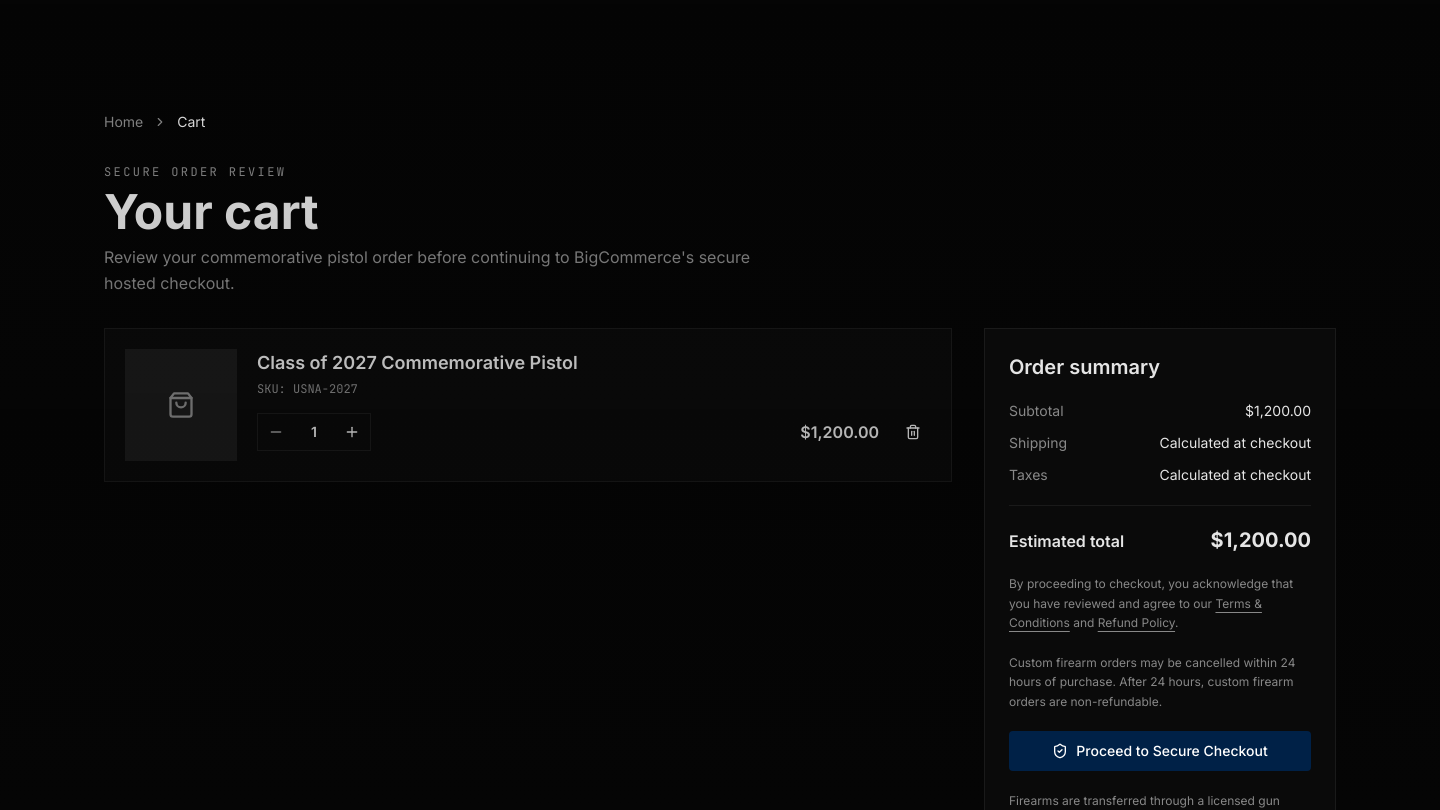
Scenario: Cart page — checkout guardrails & resilience › TEST: a failed checkout request shows an error, leaves the cart intact, and a retry succeeds
This screenshot has width=1440, height=810.
Later steps or results of the test are not shown.
Click the button "Proceed to Secure Checkout": click(1160, 751) [1009,731,1311,771]
(page scrolled)
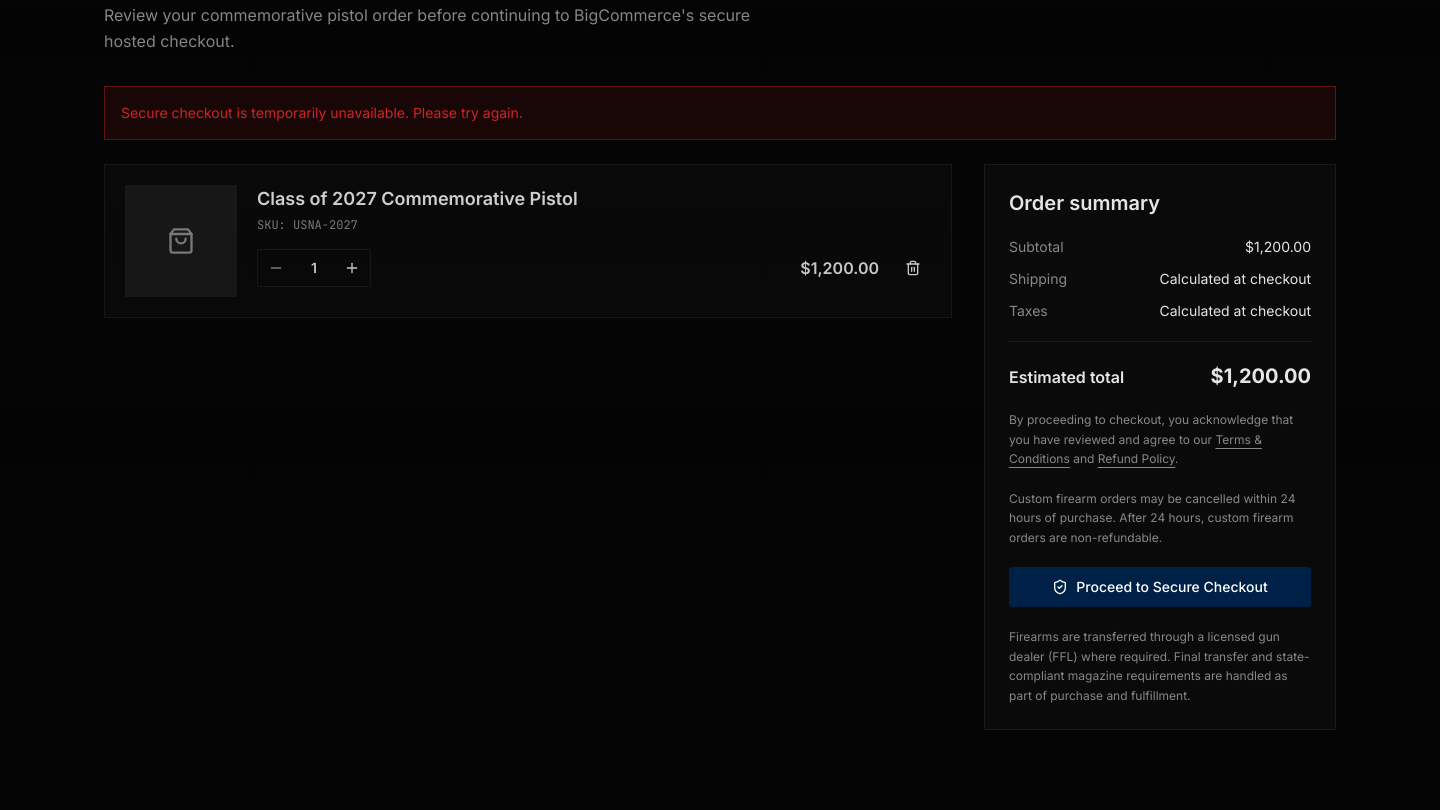
Expected: the heading "Class of 2027 Commemorative Pistol" is shown, [257,188,578,209]
Expected: the message shows "Secure checkout is temporarily unavailable", [121,104,523,121]
